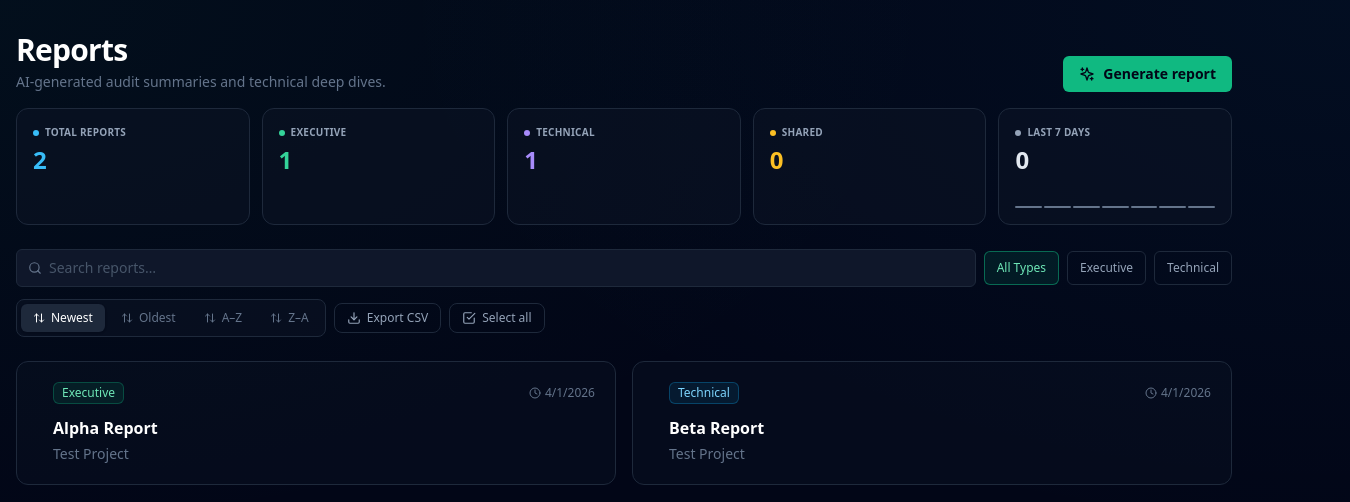
Test: Reports — bulk & filter functions › filters reports by kind filter button
Expected: the heading "Alpha Report" is shown, [53,417,158,439]
Click the button "technical".
click(1193, 268)  # box [1154,251,1232,285]
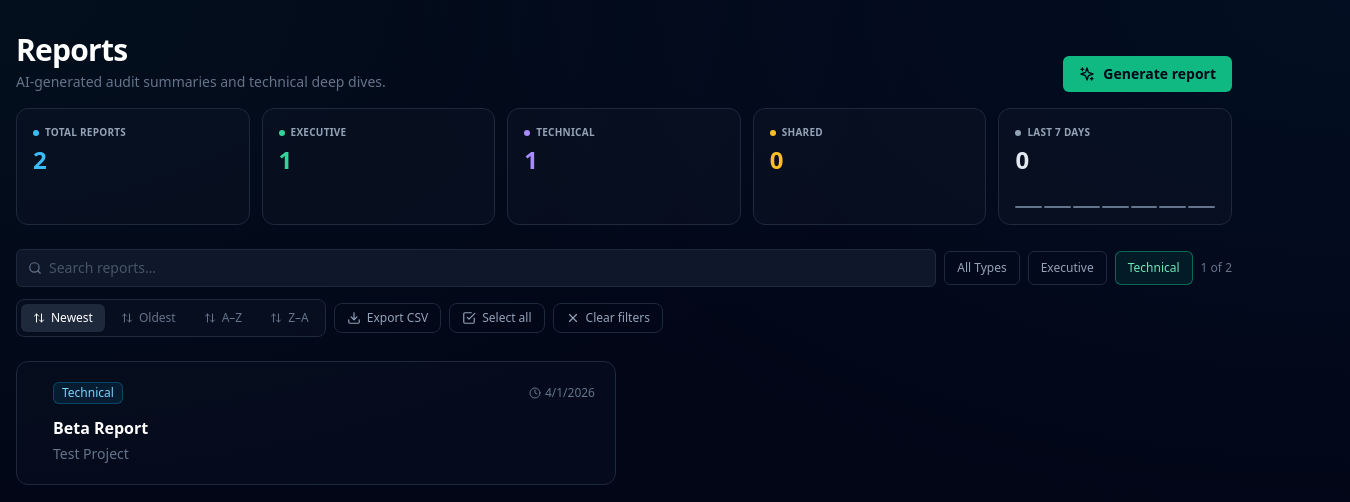
Expected: the heading "Beta Report" is shown, [53,417,148,439]
Now the button "Alpha Report" is gone
